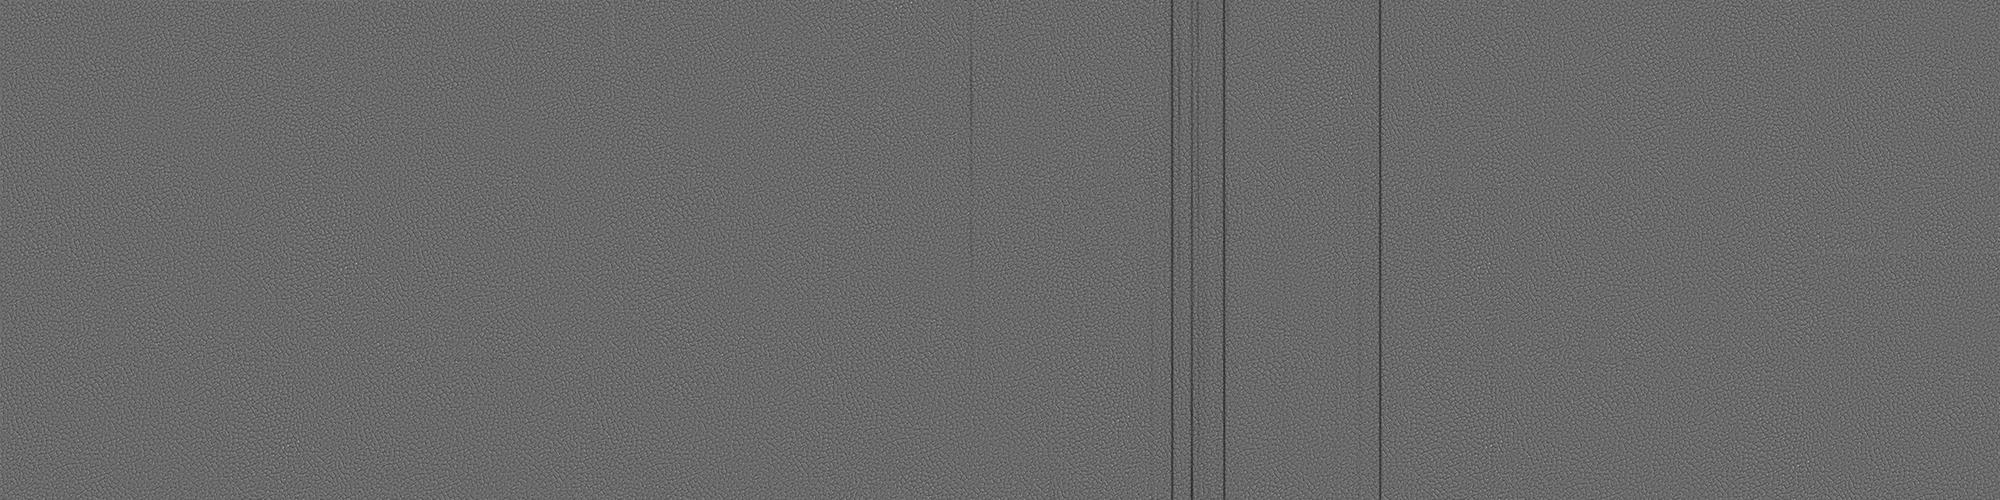DieDrag: (1159, 4, 1233, 497), (953, 4, 987, 290), (1371, 4, 1390, 500)
